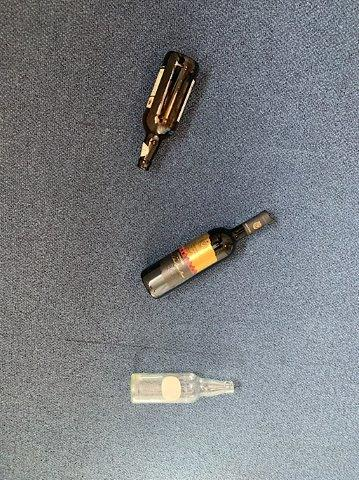botolkaca: (141, 209, 271, 299), (137, 50, 199, 171), (129, 373, 234, 403)
